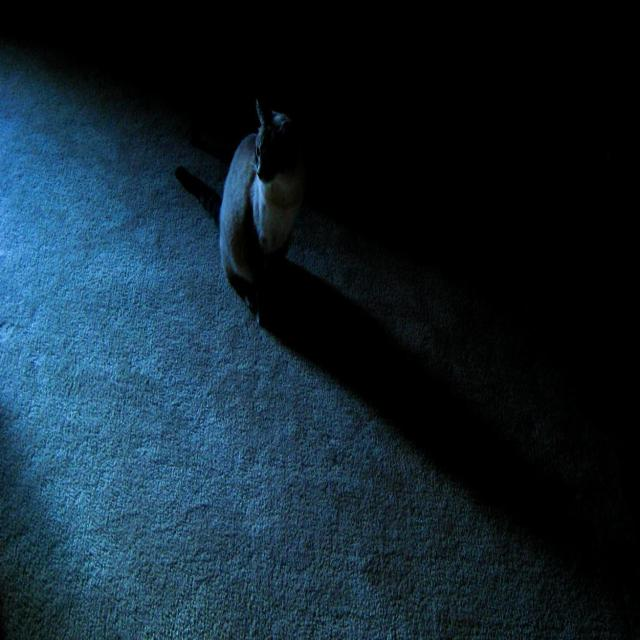Cat: (170, 92, 312, 322)
